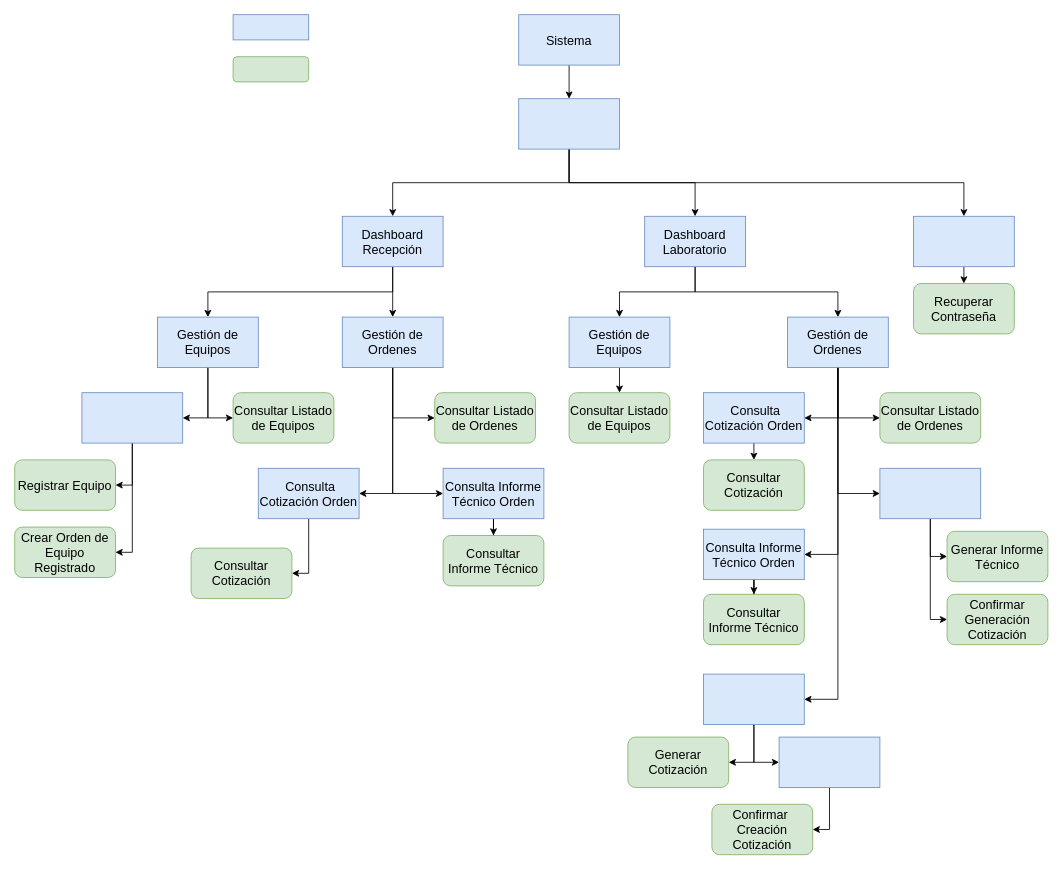
This 1063x869 diagram has some shape labels left out. Here are the shapes that lost their labels. From the top down, the centre of each, then its label:
At (x=270, y=27): "Vista".
At (x=270, y=69): "Funciones".
At (x=569, y=123): "Inicio de Sesion".
At (x=963, y=241): "Recuperación de Contraseña".
At (x=132, y=417): "Registro de Equipo".
At (x=930, y=493): "Generación Informe Técnico".
At (x=753, y=698): "Generación Cotización".
At (x=829, y=762): "Confirmación Cotización".
